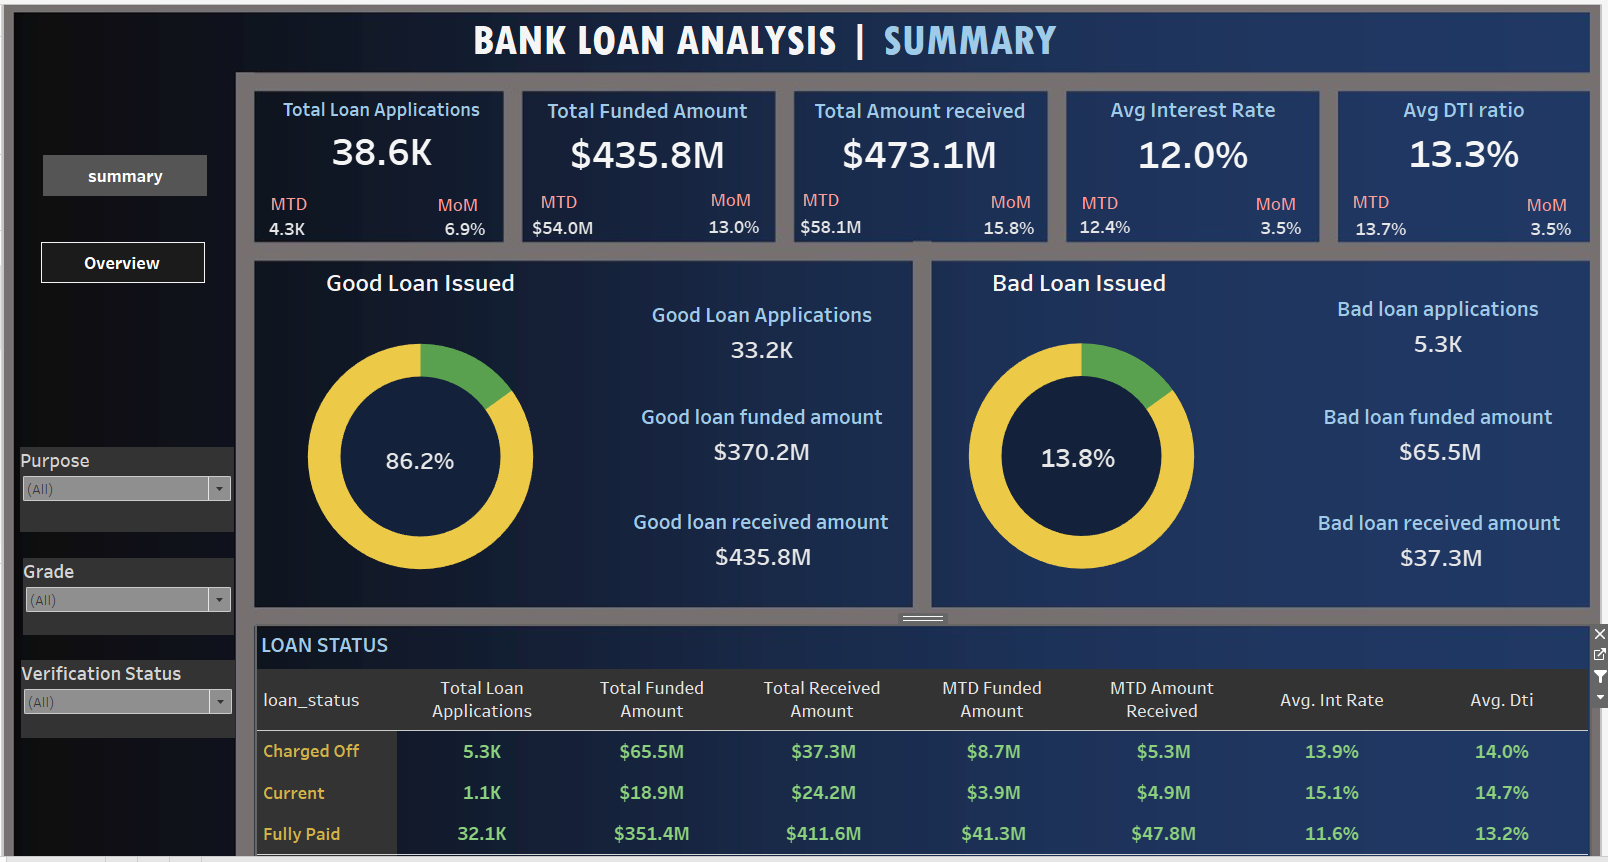

What the dashboard file says about the page in this screenshot:
{"tool":"tableau","page":{"name":"Summary","canvas":[1600,900],"ordinal":1},"visuals":[{"type":"image","param":"D:/Data Analytics/Bank Loan Analysis/Tableau Background 1.jpg","box":[0,0,1600,900]},{"type":"text","box":[467,5,647,61]},{"type":"worksheet","title":"Avg Interest Rate","mark":"Automatic","box":[1065,87,252,81]},{"type":"worksheet","title":"Avg DTI ratio","mark":"Automatic","box":[1337,87,250,78]},{"type":"worksheet","title":"Total Loan Applications","mark":"Automatic","box":[253,88,253,76]},{"type":"worksheet","title":"Total Funded Amount","mark":"Automatic","box":[519,88,253,78]},{"type":"worksheet","title":"Total Amount received","mark":"Automatic","box":[793,88,250,78]},{"type":"dashboard-object","box":[41,151,164,41]},{"type":"text","box":[705,185,64,21]},{"type":"text","box":[797,185,56,21]},{"type":"text","box":[535,187,56,21]},{"type":"text","box":[985,187,64,21]},{"type":"text","box":[1347,187,56,21]},{"type":"text","box":[1076,188,56,21]},{"type":"text","box":[265,189,56,21]},{"type":"text","box":[1250,189,64,21]},{"type":"text","box":[432,190,64,21]},{"type":"text","box":[1521,190,64,21]},{"type":"worksheet","title":"MTD Avg Interest Rate","mark":"Automatic","box":[1065,207,76,30]},{"type":"worksheet","title":"MoM Funded amount","mark":"Automatic","box":[694,208,75,28]},{"type":"worksheet","title":"MoM Avg Interest Rate","mark":"Automatic","box":[1240,209,77,27]},{"type":"worksheet","title":"MTD Avg DTI ratio","mark":"Automatic","box":[1337,209,83,30]},{"type":"worksheet","title":"MTD Amount Received","mark":"Automatic","box":[792,210,74,23]},{"type":"worksheet","title":"MoM Amount Received","mark":"Automatic","box":[971,211,72,23]},{"type":"worksheet","title":"MoM Avg DTI ratio","mark":"Automatic","box":[1511,211,76,25]},{"type":"worksheet","title":"MTD Total Applications","mark":"Automatic","box":[254,212,62,23]},{"type":"worksheet","title":"MoM Total Applications","mark":"Automatic","box":[425,212,75,23]},{"type":"worksheet","title":"MTD Funded Amount","mark":"Automatic","box":[522,212,74,21]},{"type":"dashboard-object","box":[39,238,164,41]},{"type":"worksheet","title":"Good Loan Issued","mark":"Pie","rows":["Calculation_2296835874782339091","Calculation_2296835874782339091"],"box":[255,258,327,342]},{"type":"worksheet","title":"Bad Loan Issued ","mark":"Pie","rows":["Calculation_2296835874782339091","Calculation_2296835874782339091"],"box":[930,258,299,341]},{"type":"worksheet","title":"Bad loan applications","mark":"Automatic","box":[1286,282,300,70]},{"type":"worksheet","title":"Good Loan Applications","mark":"Automatic","box":[610,288,300,70]},{"type":"worksheet","title":"Good loan funded amount","mark":"Automatic","box":[610,390,300,70]},{"type":"worksheet","title":"Bad loan funded amount","mark":"Automatic","box":[1286,390,300,70]},{"type":"worksheet","title":"Bad loan percentage","mark":"Automatic","box":[1025,423,101,59]},{"type":"worksheet","title":"Good Loan Percentage","mark":"Automatic","box":[368,440,100,32]},{"type":"filter","title":"Good Loan Issued","param":"[federated.0zhvs6p1xfvrm11eckdz00kglfhh].[none:purpose:nk]","box":[18,443,214,85]},{"type":"worksheet","title":"Good loan received amount","mark":"Automatic","box":[609,495,300,70]},{"type":"worksheet","title":"Bad loan received amount","mark":"Automatic","box":[1287,496,300,70]},{"type":"filter","title":"Good Loan Issued","param":"[federated.0zhvs6p1xfvrm11eckdz00kglfhh].[none:grade:nk]","box":[21,554,211,77]},{"type":"worksheet","title":"LOAN STATUS","mark":"Automatic","rows":["loan_status"],"box":[255,622,1333,270]},{"type":"filter","title":"Good Loan Issued","param":"[federated.0zhvs6p1xfvrm11eckdz00kglfhh].[none:verification_status:nk]","box":[19,656,214,78]}]}

Visuals, with their boxes on the page's 1600x900 design canvas (x1, y1, x2, y2). These are canvas units, not pixel positions in the 1608x862 screenshot, which may show the page scaled, cropped or inside an application window:
image: 0 0 1600 900
text: 467 5 1114 66
"Avg Interest Rate" worksheet: 1065 87 1317 168
"Avg DTI ratio" worksheet: 1337 87 1587 165
"Total Loan Applications" worksheet: 253 88 506 164
"Total Funded Amount" worksheet: 519 88 772 166
"Total Amount received" worksheet: 793 88 1043 166
dashboard-object: 41 151 205 192
text: 705 185 769 206
text: 797 185 853 206
text: 535 187 591 208
text: 985 187 1049 208
text: 1347 187 1403 208
text: 1076 188 1132 209
text: 265 189 321 210
text: 1250 189 1314 210
text: 432 190 496 211
text: 1521 190 1585 211
"MTD Avg Interest Rate" worksheet: 1065 207 1141 237
"MoM Funded amount" worksheet: 694 208 769 236
"MoM Avg Interest Rate" worksheet: 1240 209 1317 236
"MTD Avg DTI ratio" worksheet: 1337 209 1420 239
"MTD Amount Received" worksheet: 792 210 866 233
"MoM Amount Received" worksheet: 971 211 1043 234
"MoM Avg DTI ratio" worksheet: 1511 211 1587 236
"MTD Total Applications" worksheet: 254 212 316 235
"MoM Total Applications" worksheet: 425 212 500 235
"MTD Funded Amount" worksheet: 522 212 596 233
dashboard-object: 39 238 203 279
"Good Loan Issued" worksheet (Pie marks): 255 258 582 600
"Bad Loan Issued " worksheet (Pie marks): 930 258 1229 599
"Bad loan applications" worksheet: 1286 282 1586 352
"Good Loan Applications" worksheet: 610 288 910 358
"Good loan funded amount" worksheet: 610 390 910 460
"Bad loan funded amount" worksheet: 1286 390 1586 460
"Bad loan percentage" worksheet: 1025 423 1126 482
"Good Loan Percentage" worksheet: 368 440 468 472
"Good Loan Issued" filter: 18 443 232 528
"Good loan received amount" worksheet: 609 495 909 565
"Bad loan received amount" worksheet: 1287 496 1587 566
"Good Loan Issued" filter: 21 554 232 631
"LOAN STATUS" worksheet: 255 622 1588 892
"Good Loan Issued" filter: 19 656 233 734
